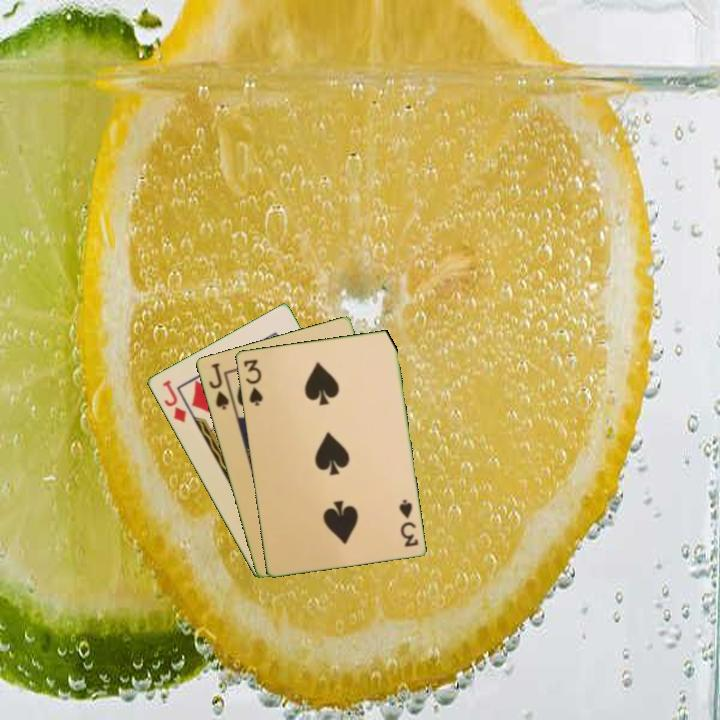3s: (395, 495, 421, 550), (240, 355, 265, 409)
Jd: (159, 376, 189, 425)
Js: (205, 359, 232, 412)
